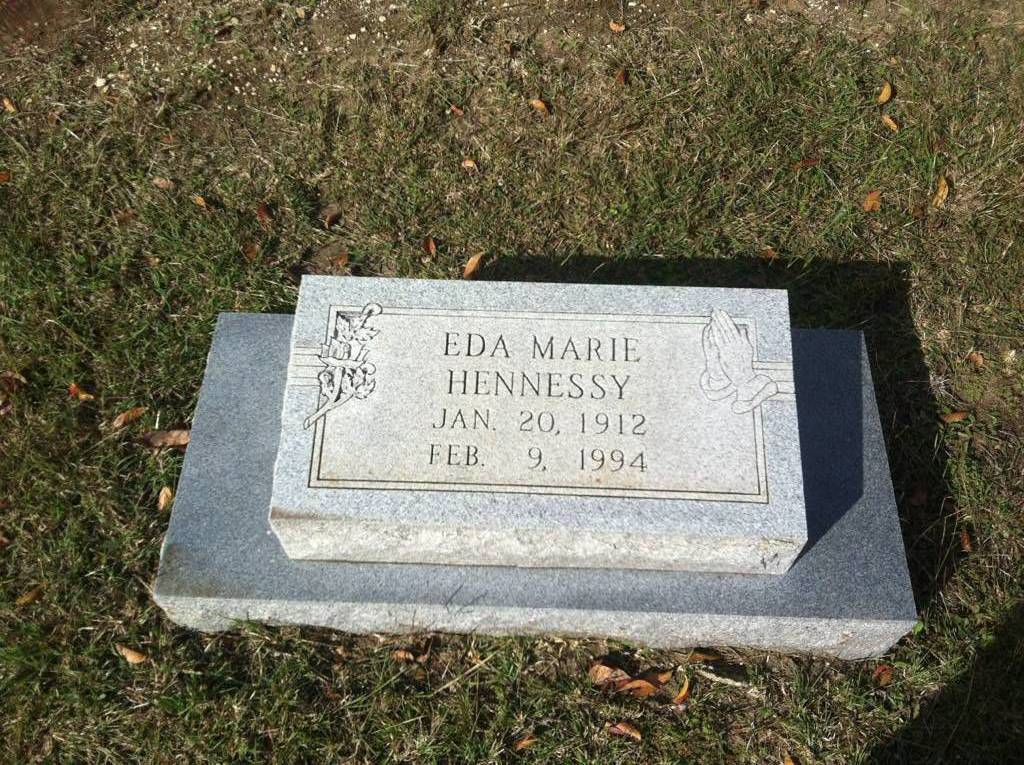flat: (148, 251, 930, 681)
